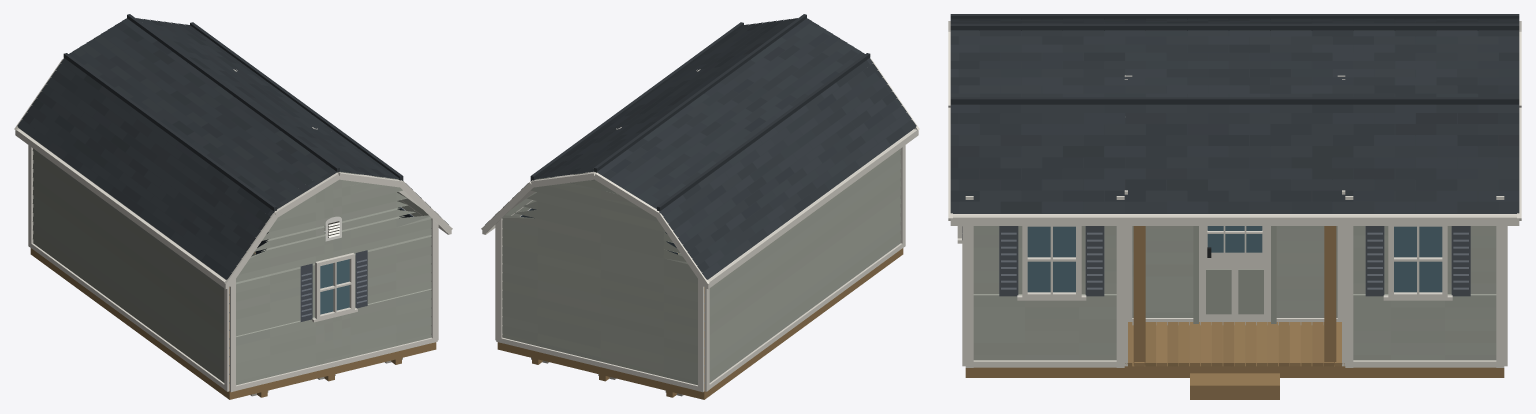
Rendered from 08-side-porch-shutters.glb.
3 renders of one model, left to right at view 1: azimuth 30°, elevation 25°; view 2: azimuth 150°, elevation 25°; view 3: azimuth 270°, elevation 25°, orthographic. The views are drawn at different scales.
Parts seen in each view (by area): view 1: Main roof, front wall, left wall, Floor platform and skids, front wall window, Louvered window shutters, right forward bay; view 2: Main roof, rear wall, left wall, Floor platform and skids, right back bay; view 3: Main roof, right forward bay, right back bay, Porch decking, columns and rails, right recessed entry wall, right recessed entry wall entry, Floor platform and skids, Louvered window shutters, right forward bay window, right back bay window, front recess return wall, rear recess return wall (+2 smaller).
Boxes of the visible parts, left/top/right/bottom form: Main roof: left=14, top=14, right=452, bottom=289; front wall: left=229, top=171, right=437, bottom=392; left wall: left=28, top=145, right=229, bottom=391; Floor platform and skids: left=30, top=248, right=436, bottom=399; front wall window: left=312, top=253, right=357, bottom=322; Louvered window shutters: left=300, top=250, right=367, bottom=321; right forward bay: left=397, top=192, right=438, bottom=340; Main roof: left=481, top=14, right=919, bottom=289; rear wall: left=496, top=172, right=704, bottom=392; left wall: left=704, top=145, right=905, bottom=391; Floor platform and skids: left=497, top=248, right=903, bottom=399; right back bay: left=495, top=192, right=536, bottom=340; Main roof: left=948, top=14, right=1521, bottom=225; right forward bay: left=965, top=196, right=1124, bottom=367; right back bay: left=1345, top=196, right=1504, bottom=367; Porch decking, columns and rails: left=1125, top=226, right=1344, bottom=399; right recessed entry wall: left=1124, top=75, right=1345, bottom=325; right recessed entry wall entry: left=1193, top=226, right=1276, bottom=323; Floor platform and skids: left=965, top=325, right=1504, bottom=377; Louvered window shutters: left=962, top=226, right=1470, bottom=296; right forward bay window: left=1017, top=226, right=1086, bottom=300; right back bay window: left=1383, top=226, right=1452, bottom=300; front recess return wall: left=1342, top=79, right=1345, bottom=366; rear recess return wall: left=1124, top=79, right=1127, bottom=366.
Size of the model in its own units: 4.17 by 3.68 by 6.49.
